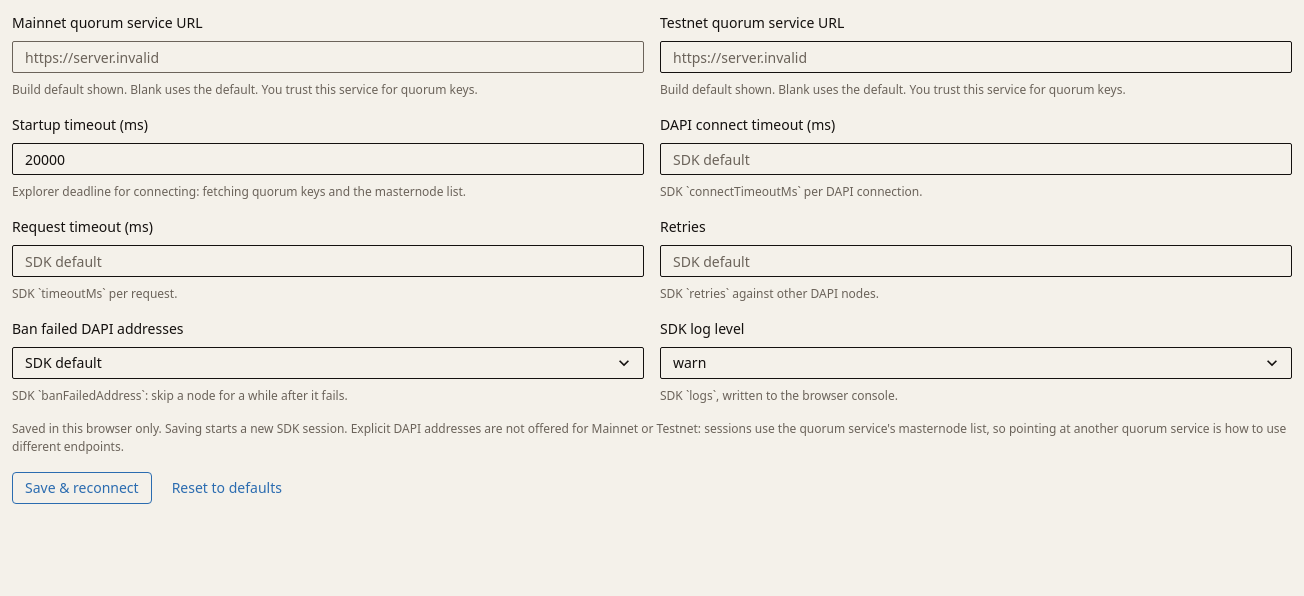
Test: ConnectionSettingsForm › rejects out-of-range numbers and non-HTTPS quorum services without saving
Type "99" into the field labelled "Retries" at (976, 261), box [660, 245, 1292, 277]
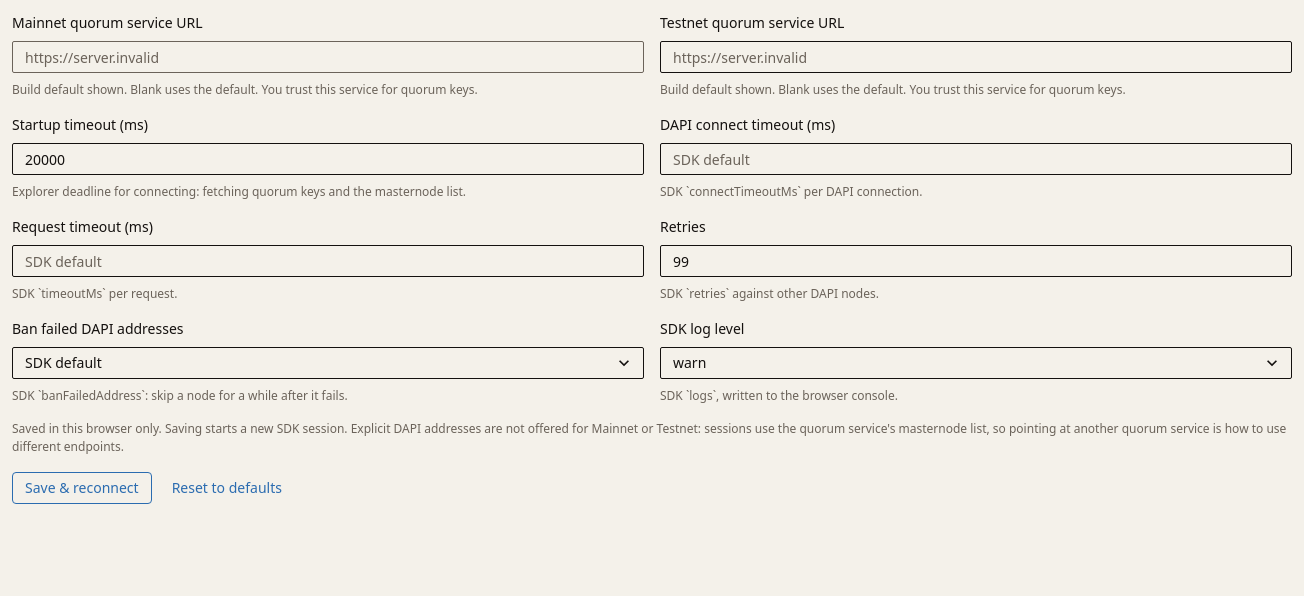
Type "http://quorums.example.test" into the field labelled "Mainnet quorum service URL" at (328, 57), box [12, 41, 644, 73]
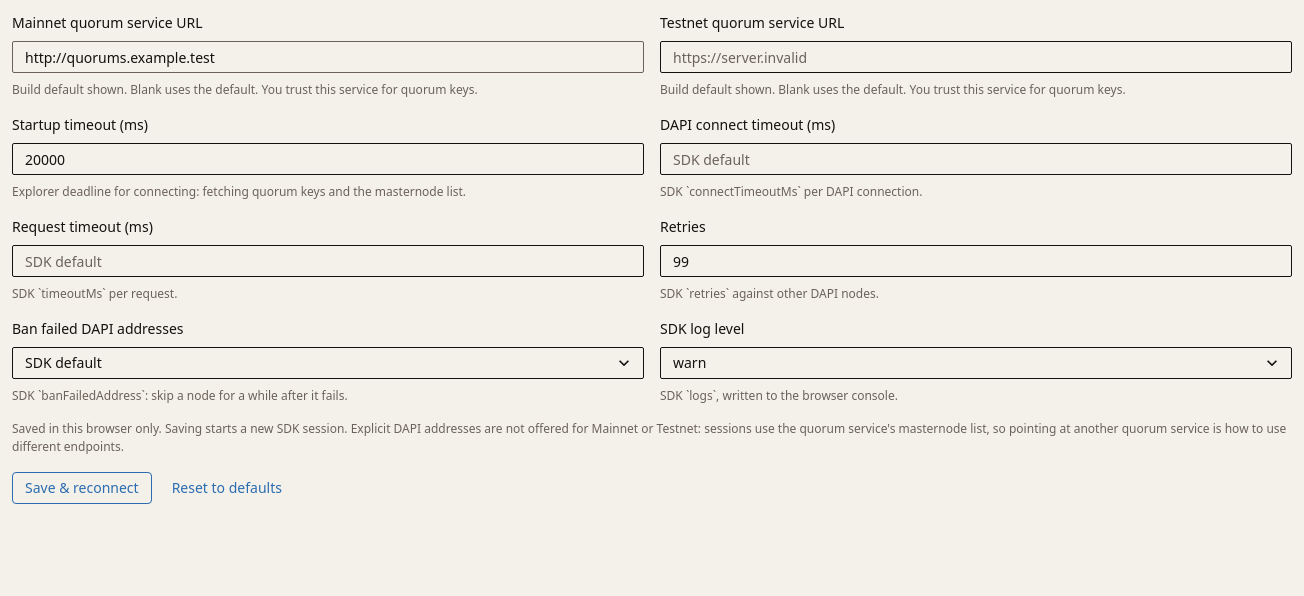
Clear the field labelled "Startup timeout (ms)" at (328, 159), box [12, 143, 644, 175]
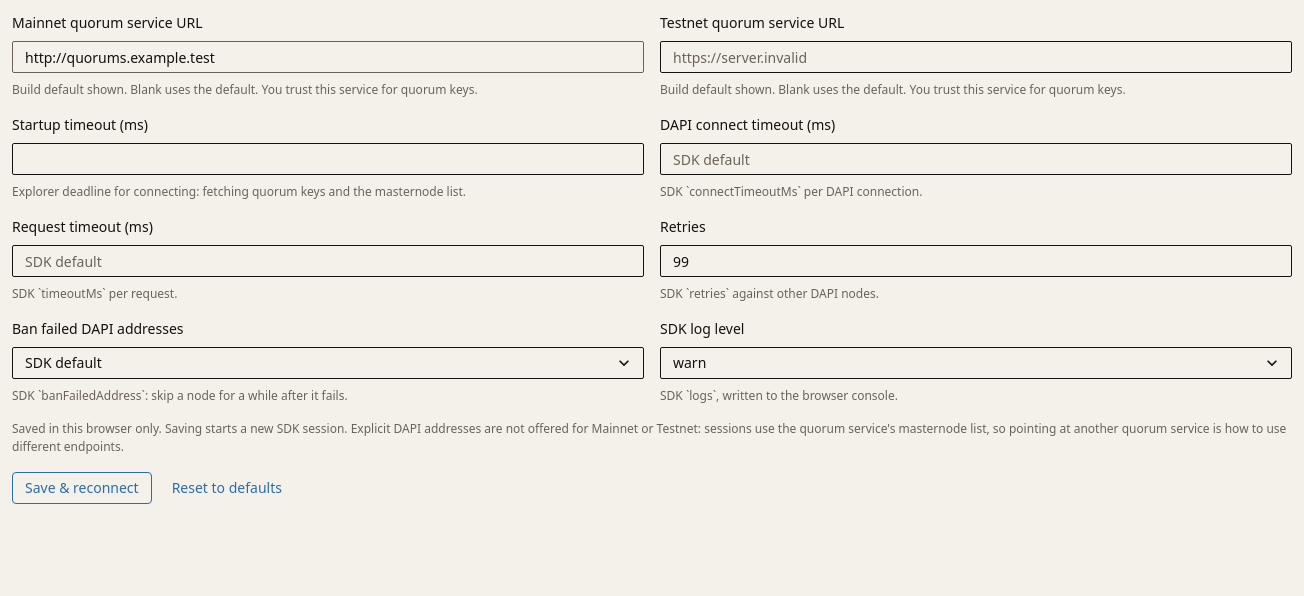
Click the button "Save & reconnect" at (82, 488), box [12, 472, 152, 504]
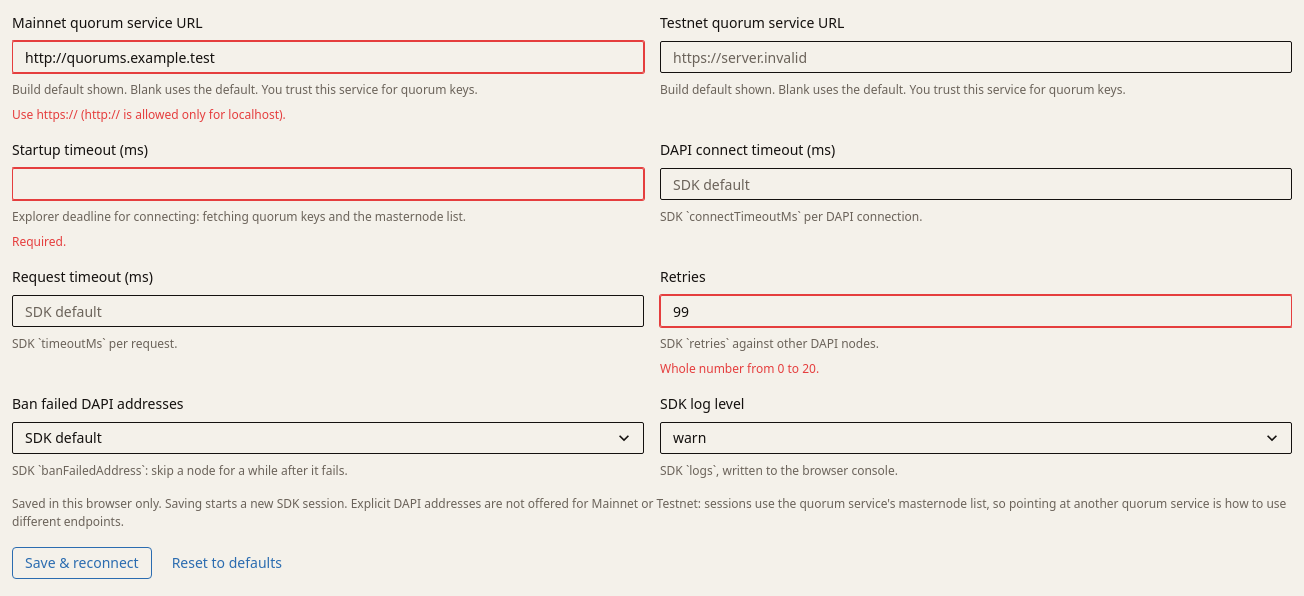
expect the text "Whole number from 0 to 20." is shown: met, box [660, 360, 819, 377]
expect the text "Use https:// (http:// is allowed only for localhost)." is shown: met, box [12, 106, 286, 123]
expect the text "Required." is shown: met, box [12, 233, 66, 250]
